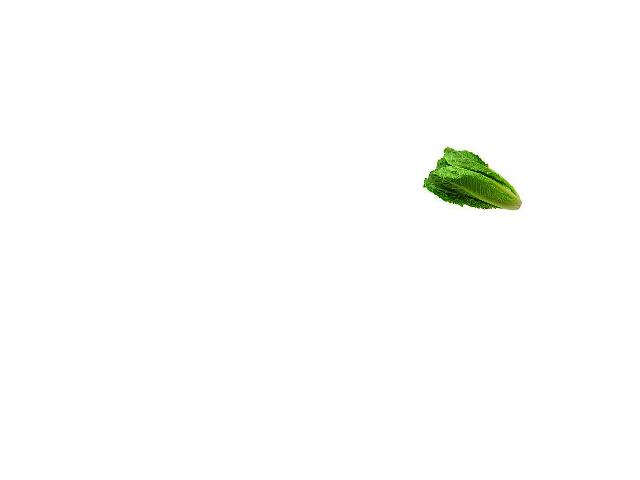lettuce: (423, 146, 530, 211)
